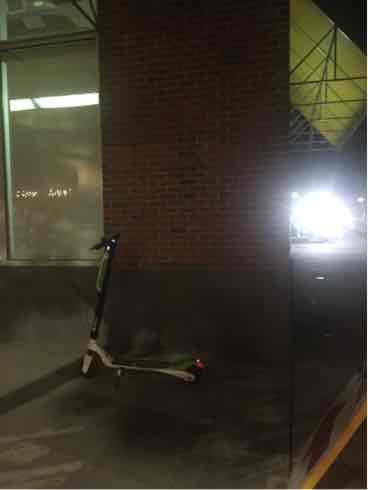scooter: (70, 229, 208, 405)
